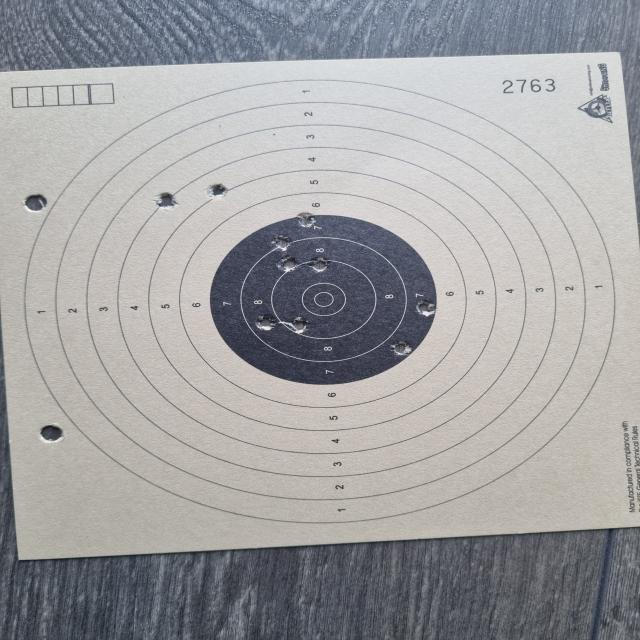4: (153, 192, 179, 211)
5: (205, 184, 228, 198)
7: (415, 298, 437, 316), (390, 340, 412, 356), (295, 212, 316, 228)
8: (254, 313, 277, 331), (270, 234, 293, 250)
9: (278, 316, 308, 334), (276, 254, 300, 272), (306, 255, 330, 273)
Target: (24, 79, 640, 525)
black_contour: (211, 214, 437, 384)
